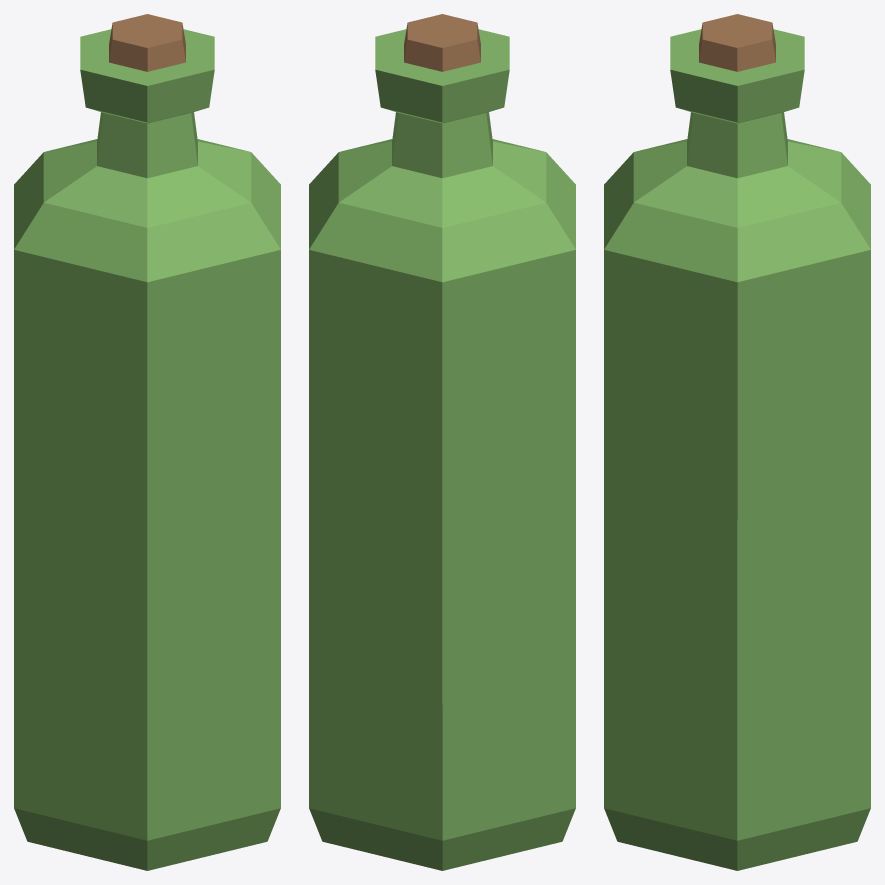
The model's file is Green_Potion_1.fbx.
The picture shows the model from 3 angles, left to right: view 1: azimuth 30°, elevation 25°; view 2: azimuth 150°, elevation 25°; view 3: azimuth 270°, elevation 25°; orthographic projection.
Parts seen in each view (by area): view 1: Green_Potion_1; view 2: Green_Potion_1; view 3: Green_Potion_1.
Part boxes in pixels (x1,y1,x2,y2): Green_Potion_1: (14, 14, 280, 870); Green_Potion_1: (309, 14, 575, 870); Green_Potion_1: (604, 14, 870, 870).
Bounding box in the file's own units: 13.2 × 36.91 × 11.43.
